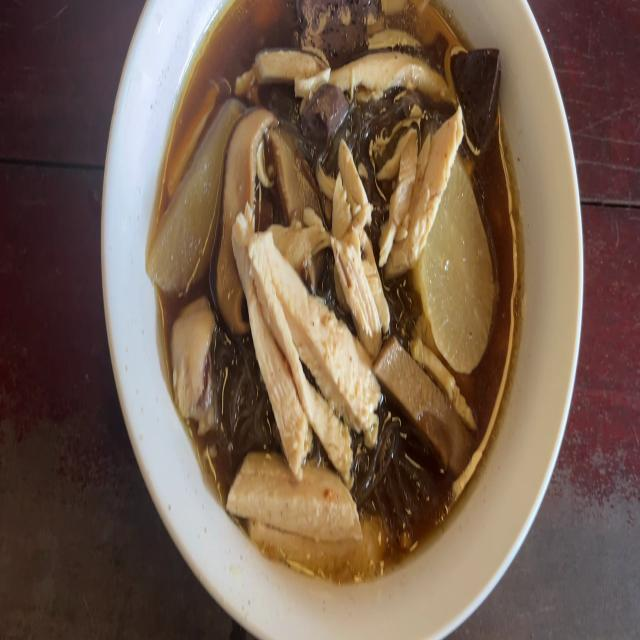boiled_chicken_blood_jelly: (291, 0, 375, 65), (457, 38, 503, 138), (306, 86, 348, 136)
chicken_shredded: (240, 222, 368, 463), (316, 142, 396, 345), (390, 108, 468, 270), (233, 446, 354, 543), (339, 45, 453, 102), (172, 300, 221, 423), (250, 38, 326, 89)
daikon_radish: (148, 96, 231, 285), (425, 186, 496, 372)
noodle: (160, 0, 521, 579)
